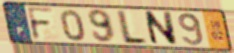0: (59, 8, 88, 43)
9: (87, 9, 119, 44), (177, 12, 205, 47)
F: (25, 6, 56, 42)
L: (116, 9, 148, 46)
N: (142, 10, 179, 47)
